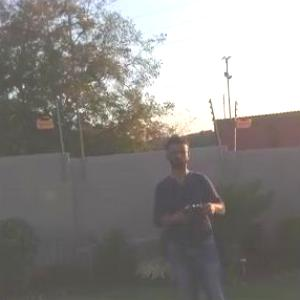follow: (147, 129, 235, 299)
